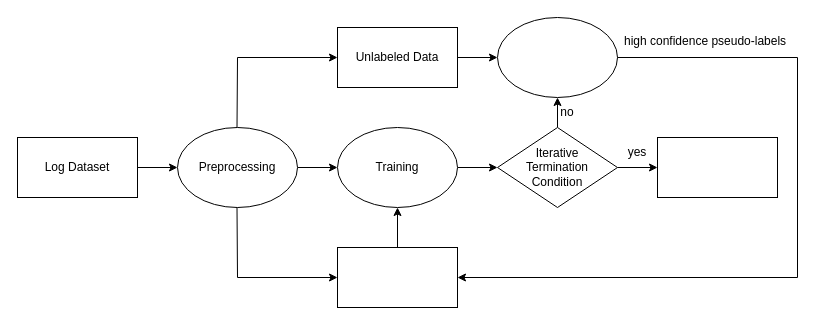
Image size: 830x325. Some labels were removed from this diagram. Each missing label, with the centre of its shape:
"Best Classifier" belongs at pixel 717 167.
"Labeled Data" belongs at pixel 397 277.
"Uncertainty-aware Pseudo-label Selection" belongs at pixel 557 57.
